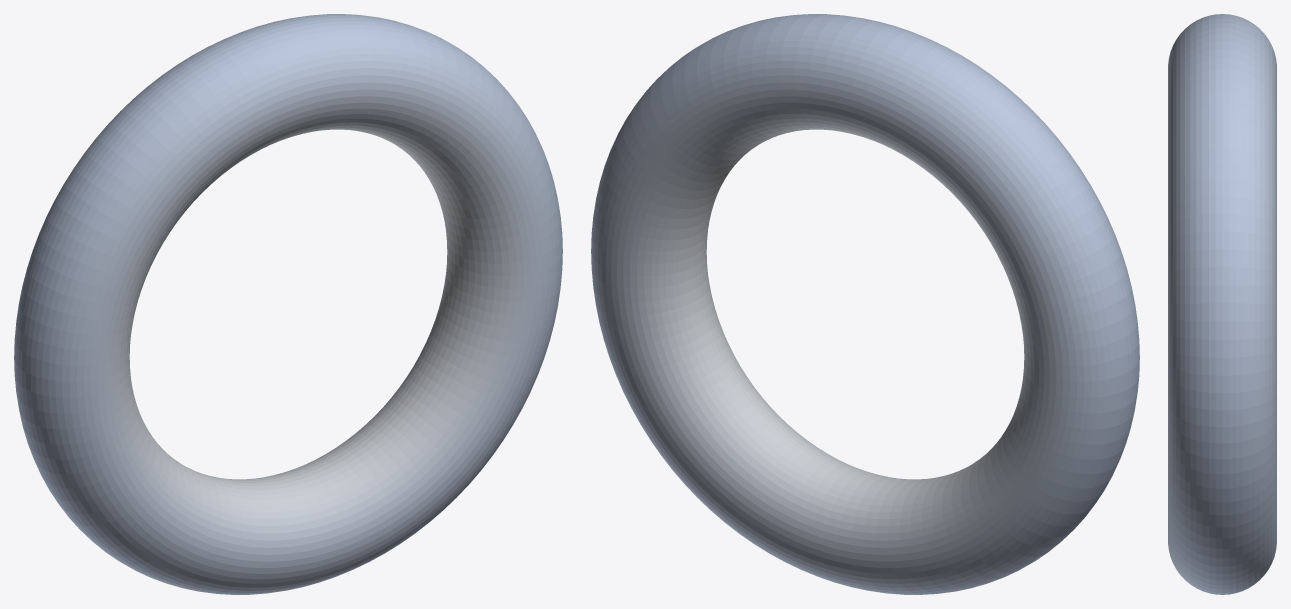
3 views of the same model, side by side, from view 1: azimuth 30°, elevation 25°; view 2: azimuth 150°, elevation 25°; view 3: azimuth 270°, elevation 25° (orthographic). The views are drawn at different scales.
Visible parts, largest first — view 1: world; view 2: world; view 3: world.
Part boxes in pixels (bbox=[...]): world: bbox=[14, 14, 562, 594]; world: bbox=[591, 14, 1139, 594]; world: bbox=[1168, 14, 1276, 594].
Bounding box in the file's own units: 26.27 × 26.27 × 4.92.
